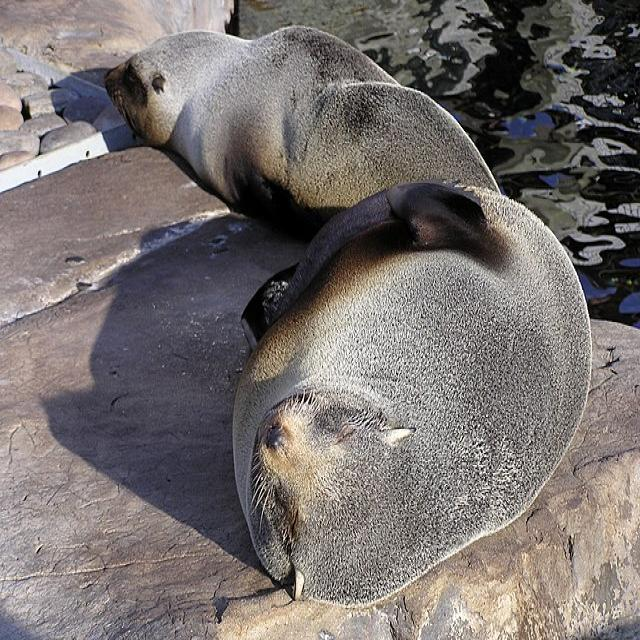WaterDog: (238, 189, 588, 609), (101, 26, 517, 221)
